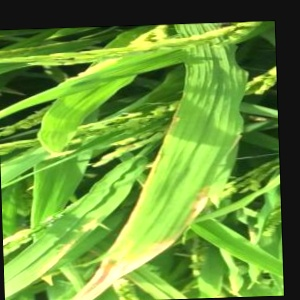Leaf_Blast: (125, 46, 228, 275)
